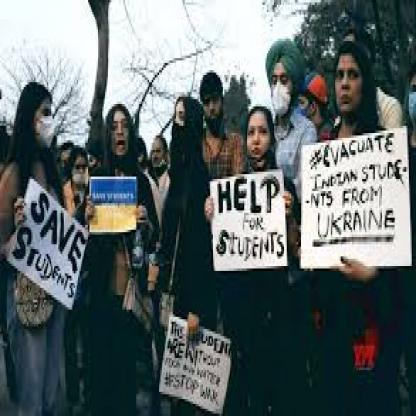BANNER: (298, 128, 412, 271), (4, 179, 88, 312), (204, 169, 288, 273), (159, 312, 233, 416)
